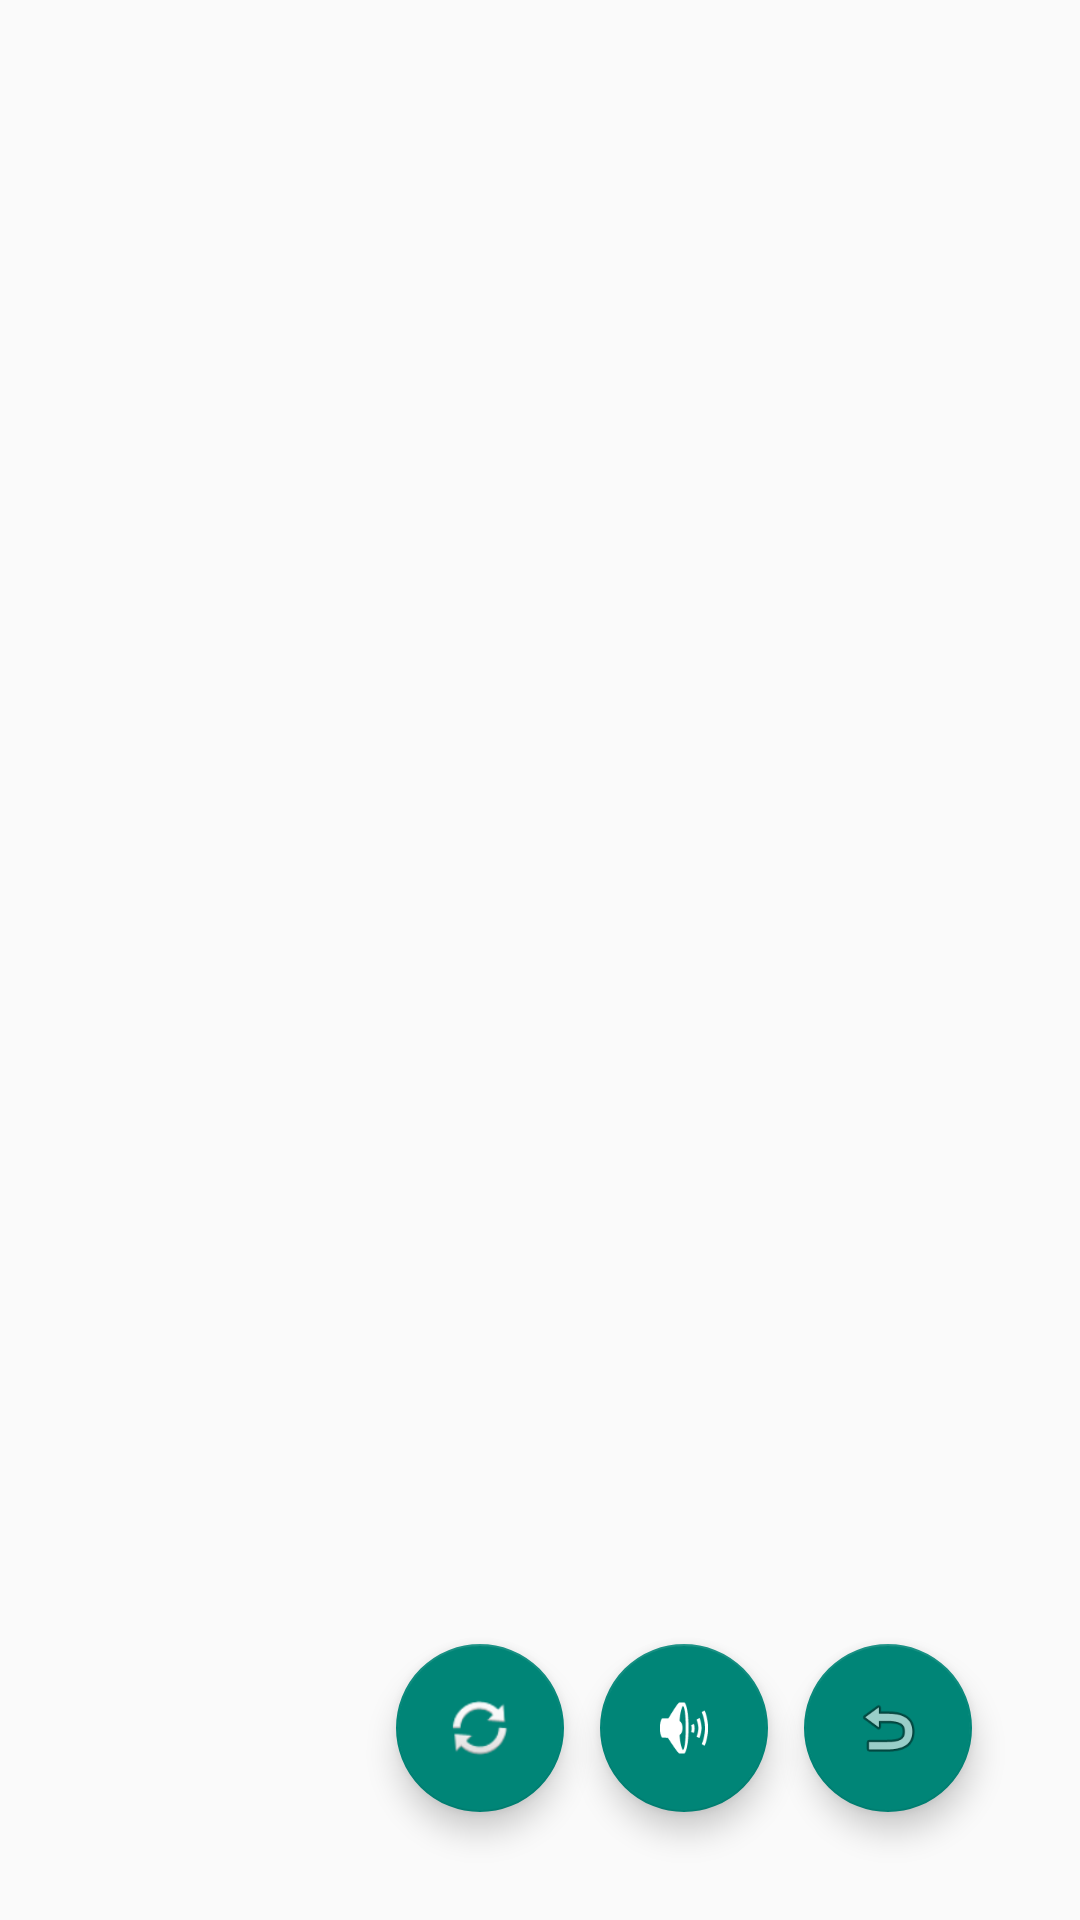

Icon bounding boxes for this 1080×1920 phone screenshot, format (x1, y1, x2, y2):
popup sync: (396, 1644, 564, 1812)
revert: (804, 1644, 972, 1812)
